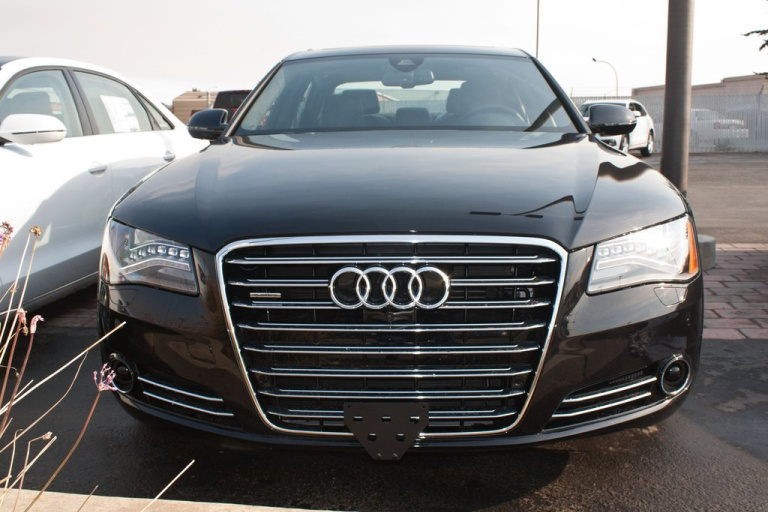audi: (315, 259, 456, 325)
